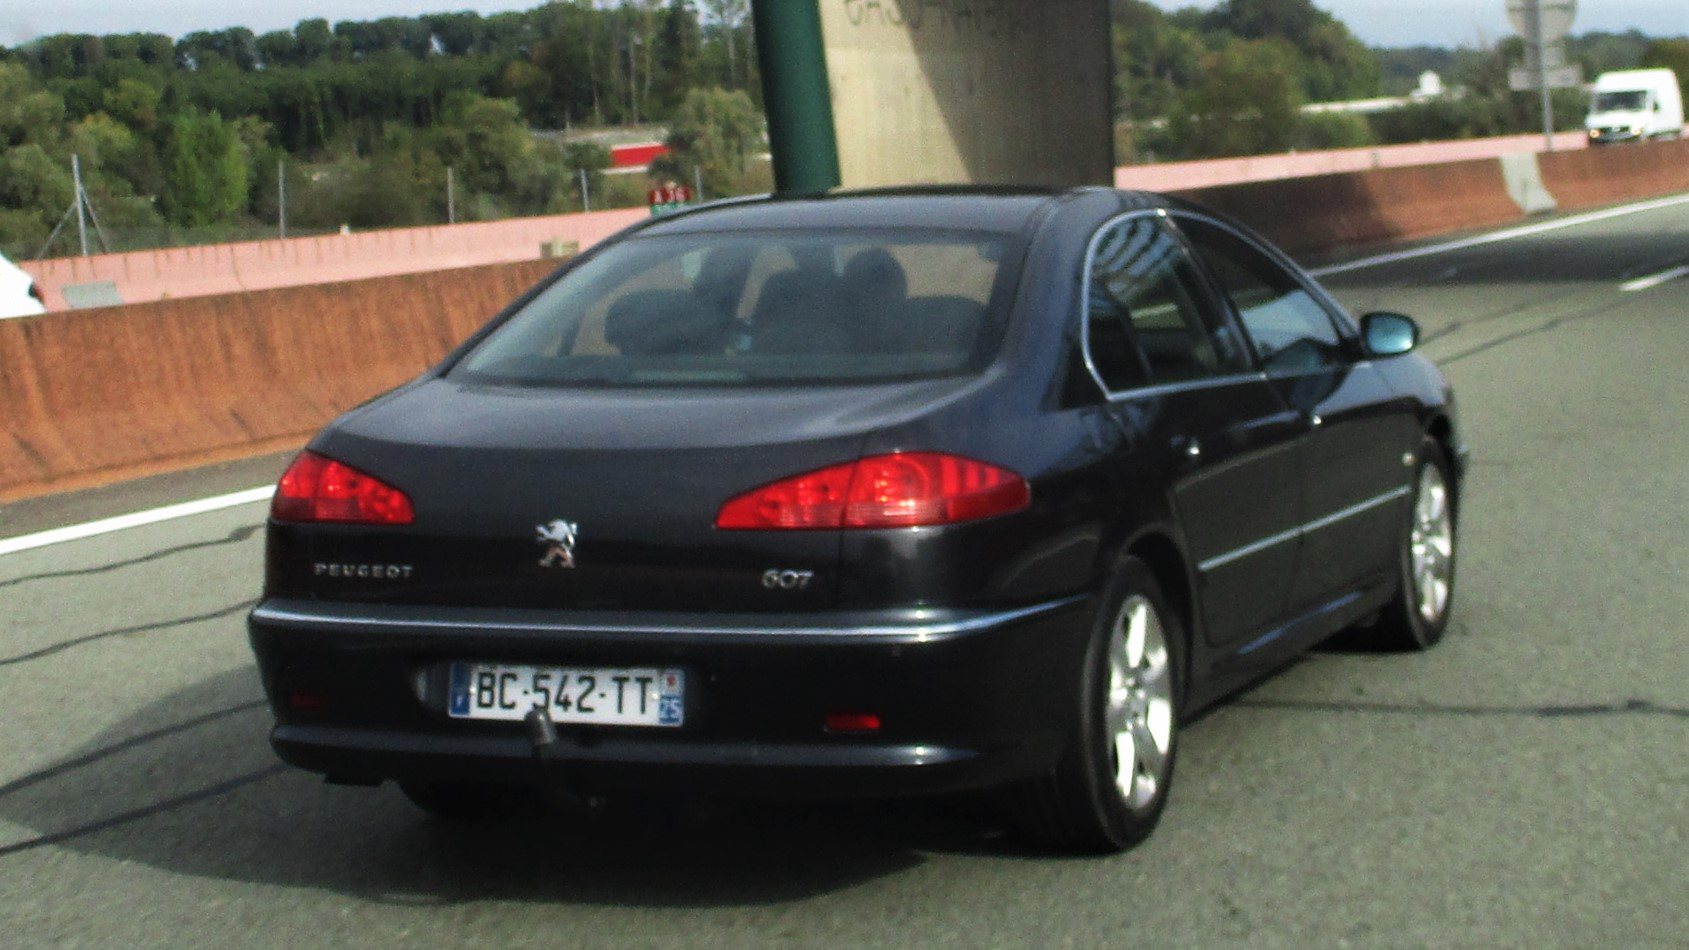licence plate: (444, 657, 688, 731)
